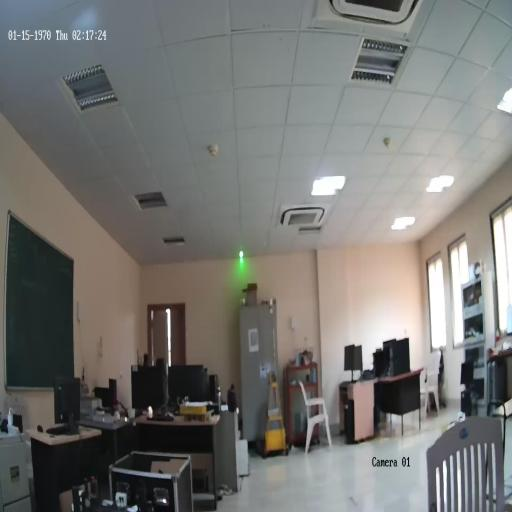laser: (238, 247, 244, 259)
